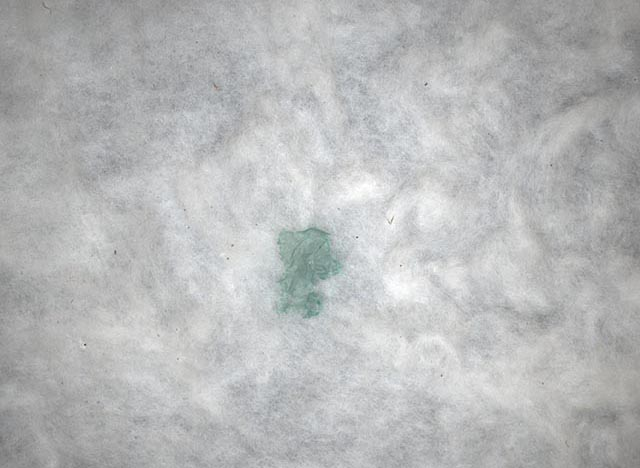plastic film: (273, 225, 343, 319)
